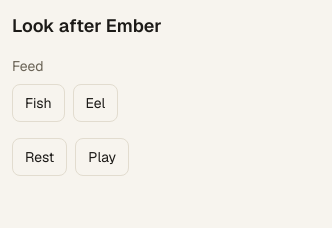
Test: CarePanel › feeds the chosen food and shows the dragon's reaction
Click the button "fish": (38, 103) left=12, top=84, right=64, bottom=122
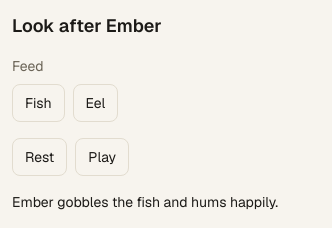
Expected: the text "Ember gobbles the fish and hums happily." is shown, left=12, top=193, right=278, bottom=211
